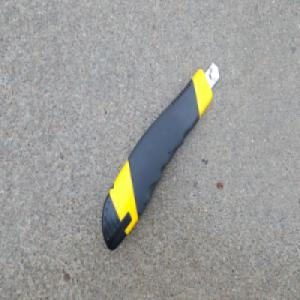Cutter: (99, 63, 218, 252)
